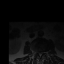CCS_normal: (39, 50, 41, 58)
LFS_severe_stenosis: (43, 50, 45, 55)
LLS_stenosis: (41, 50, 43, 55)
RFS_severe_stenosis: (36, 50, 38, 55)
RLS_stenosis: (37, 50, 39, 56)
